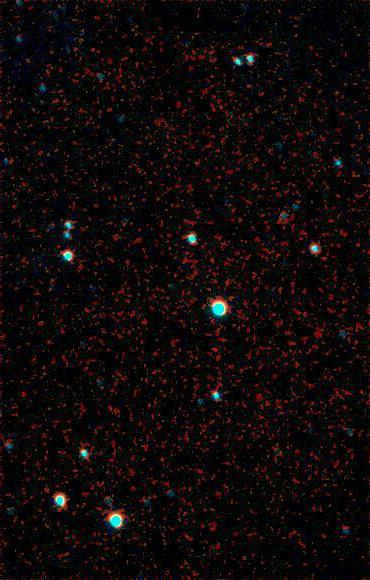star: (67, 454, 97, 484)
